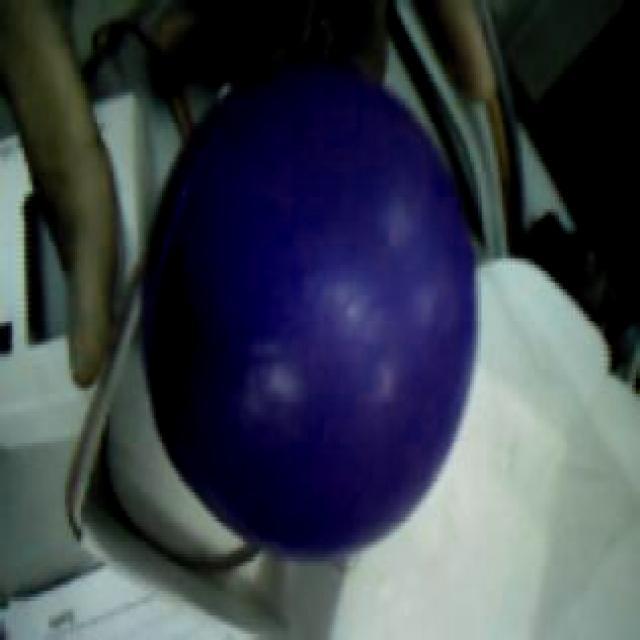BallPurple: (140, 61, 476, 556)
